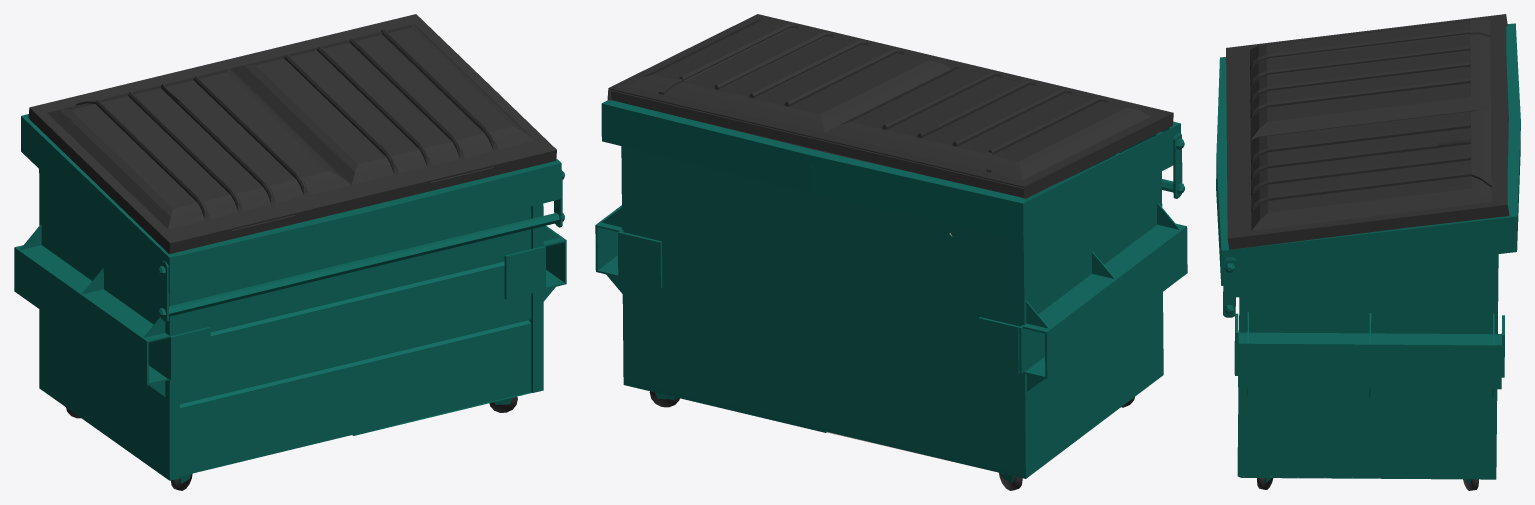
Rendered from dumpster-closed.gltf.
The picture shows the model from 3 angles, left to right: view 1: azimuth 30°, elevation 25°; view 2: azimuth 150°, elevation 25°; view 3: azimuth 270°, elevation 25°; orthographic projection. The views are drawn at different scales.
Visible parts, largest first — view 1: Dumpster_Cube.017; view 2: Dumpster_Cube.017; view 3: Dumpster_Cube.017.
Boxes of the visible parts, x1,y1,x2,y2 form: Dumpster_Cube.017: (14,14,566,490); Dumpster_Cube.017: (595,14,1187,490); Dumpster_Cube.017: (1216,14,1520,490).
Size of the model in its own units: 3.5 by 2.48 by 2.2.
